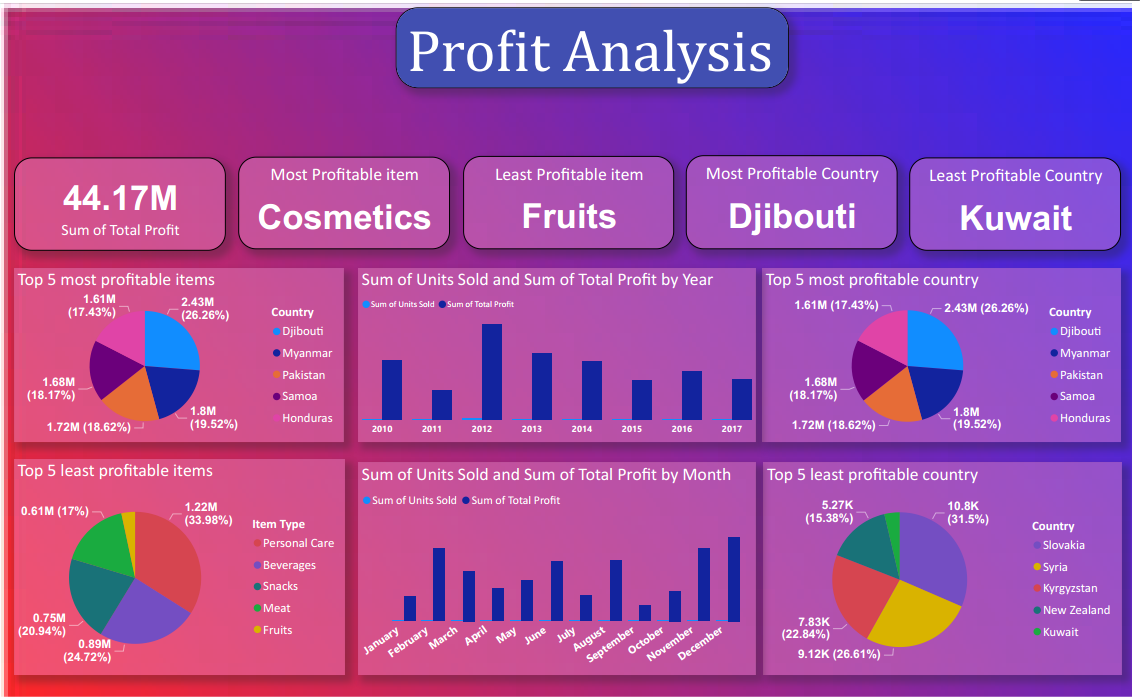

This screenshot's page, from the dashboard's own definition file:
{"tool":"powerbi","page":{"name":"Profit Analysis","canvas":[1533,990],"ordinal":1},"visuals":[{"type":"textbox","title":"Profit Analysis","box":[539.4,5.3,530.5,108.2],"z":0},{"type":"pieChart","title":"Top 5 most profitable items","fields":{"Y":["Sum(Amazone_sales_data.Total Profit)"],"Category":["Amazone_sales_data.Item Type"]},"box":[23.1,358.4,445.3,234.2],"z":1000},{"type":"pieChart","title":"Top 5 least profitable items","fields":{"Category":["Amazone_sales_data.Item Type"],"Y":["Sum(Amazone_sales_data.Total Profit)"]},"box":[23.1,615.6,447.1,292.7],"z":2000},{"type":"pieChart","title":"Top 5 most profitable country","fields":{"Category":["Amazone_sales_data.Country"],"Y":["Sum(Amazone_sales_data.Total Profit)"]},"box":[1034.4,358.4,484.4,234.2],"z":3000},{"type":"pieChart","title":"Top 5 least profitable country","fields":{"Category":["Amazone_sales_data.Country"],"Y":["Sum(Amazone_sales_data.Total Profit)"]},"box":[1036.1,621,484.4,287.4],"z":4000},{"type":"card","fields":{"Values":["Sum(Amazone_sales_data.Total Profit)"]},"box":[23.1,207.6,285.6,126],"z":5000},{"type":"clusteredColumnChart","fields":{"Category":["Amazone_sales_data.Ship Date.Variation.Date Hierarchy.Month"],"Y":["Sum(Amazone_sales_data.Units Sold)","Sum(Amazone_sales_data.Total Profit)"]},"box":[487.9,621,537.6,287.4],"z":6000},{"type":"clusteredColumnChart","fields":{"Category":["Amazone_sales_data.Ship Date.Variation.Date Hierarchy.Year"],"Y":["Sum(Amazone_sales_data.Units Sold)","Sum(Amazone_sales_data.Total Profit)"]},"box":[487.9,358.4,537.6,234.2],"z":7000},{"type":"card","title":"Most Profitable item","fields":{"Values":["Min(Amazone_sales_data.Item Type)"]},"box":[325.9,207.2,285.7,124.7],"z":8000},{"type":"card","title":"Most Profitable Country","fields":{"Values":["Min(Amazone_sales_data.Country)"]},"box":[931.5,205.2,285.7,126.7],"z":9000},{"type":"card","title":"Least Profitable item","fields":{"Values":["Min(Amazone_sales_data.Item Type)"]},"box":[629.8,205.8,285.6,126],"z":10000},{"type":"card","title":"Least Profitable Country","fields":{"Values":["Min(Amazone_sales_data.Country)"]},"box":[1233.1,207.6,285.6,126],"z":11000},{"type":"slicer","fields":{"Values":["Amazone_sales_data.Ship Date.Variation.Date Hierarchy.Month"]},"box":[1190.5,21.3,328.2,78.1],"z":11001}]}

Visuals, with their boxes on the page's 1533x990 design canvas (x1, y1, x2, y2). These are canvas units, not pixel positions in the 1140x697 screenshot, which may show the page scaled, cropped or inside an application window:
"Profit Analysis" textbox: <region>539, 5, 1070, 114</region>
"Top 5 most profitable items" pieChart: <region>23, 358, 468, 593</region>
"Top 5 least profitable items" pieChart: <region>23, 616, 470, 908</region>
"Top 5 most profitable country" pieChart: <region>1034, 358, 1519, 593</region>
"Top 5 least profitable country" pieChart: <region>1036, 621, 1520, 908</region>
card - Sum(Amazone_sales_data.Total Profit): <region>23, 208, 309, 334</region>
clusteredColumnChart - Amazone_sales_data.Ship Date.Variation.Date Hierarchy.Month x Sum(Amazone_sales_data.Units Sold): <region>488, 621, 1026, 908</region>
clusteredColumnChart - Amazone_sales_data.Ship Date.Variation.Date Hierarchy.Year x Sum(Amazone_sales_data.Units Sold): <region>488, 358, 1026, 593</region>
"Most Profitable item" card: <region>326, 207, 612, 332</region>
"Most Profitable Country" card: <region>932, 205, 1217, 332</region>
"Least Profitable item" card: <region>630, 206, 915, 332</region>
"Least Profitable Country" card: <region>1233, 208, 1519, 334</region>
slicer - Amazone_sales_data.Ship Date.Variation.Date Hierarchy.Month: <region>1190, 21, 1519, 99</region>
